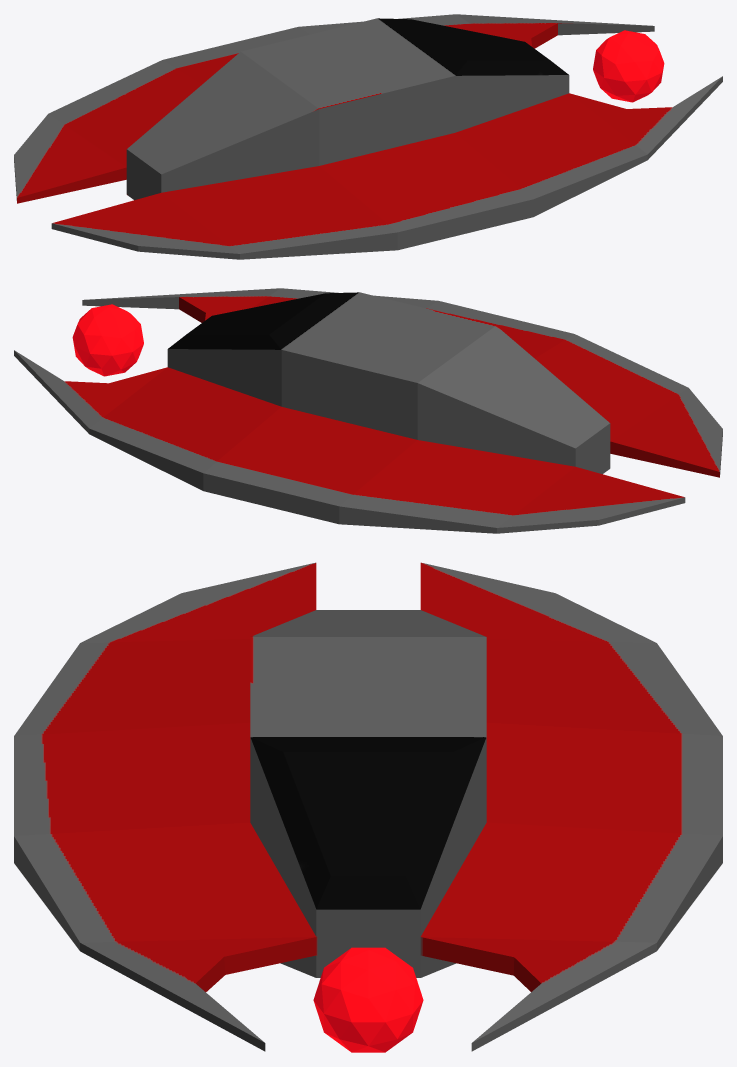
The model's file is AlienFighter.glb.
3 views of the same model, one above another, from view 1: azimuth 30°, elevation 25°; view 2: azimuth 150°, elevation 25°; view 3: azimuth 270°, elevation 25° (orthographic). The views are drawn at different scales.
Parts seen in each view (by area): view 1: Cube, Icosphere; view 2: Cube, Icosphere; view 3: Cube, Icosphere.
Boxes of the visible parts, box(x1,y1,x2,y2) form: Cube: box(14, 14, 722, 259); Icosphere: box(593, 30, 664, 102); Cube: box(14, 288, 722, 533); Icosphere: box(72, 304, 143, 376); Cube: box(14, 562, 722, 1051); Icosphere: box(313, 947, 423, 1052).
Size of the model in its own units: 9.63 by 2.02 by 6.
2 materials, 1 textured.
